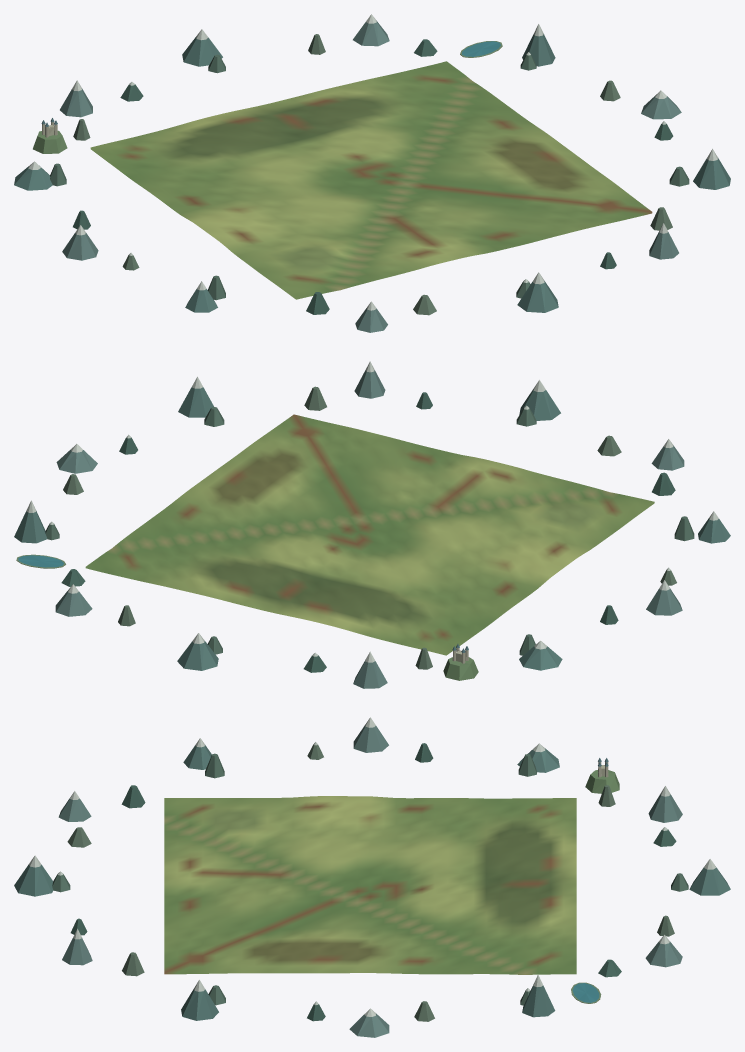
The model's file is overview.glb.
3 renders of one model, top to bottom at view 1: azimuth 30°, elevation 25°; view 2: azimuth 150°, elevation 25°; view 3: azimuth 270°, elevation 25°, orthographic.
Parts seen in each view (by area): view 1: Backdrop mountain 4, Backdrop mountain 2, Backdrop mountain 10, Backdrop mountain 7, Backdrop mountain 8, Backdrop mountain 1, Backdrop mountain 9, Backdrop mountain 12, Backdrop mountain 11, Backdrop mountain 3, Backdrop castle plateau, Backdrop mountain 5 (+1 smaller); view 2: Backdrop mountain 10, Backdrop mountain 4, Backdrop mountain 2, Backdrop mountain 8, Backdrop mountain 12, Backdrop mountain 1, Backdrop mountain 7, Backdrop mountain 11, Backdrop mountain 9, Backdrop castle plateau, Backdrop mountain 3, Backdrop mountain 6 (+1 smaller); view 3: Backdrop mountain 4, Backdrop mountain 2, Backdrop mountain 10, Backdrop mountain 12, Backdrop mountain 7, Backdrop mountain 9, Backdrop mountain 1, Backdrop mountain 11, Backdrop mountain 3, Backdrop castle plateau, Backdrop mountain 5, Backdrop mountain 8.
Boxes of the visible parts, x1,y1,x2,y2 form: Backdrop mountain 4: [517, 281, 558, 312]; Backdrop mountain 2: [693, 158, 730, 189]; Backdrop mountain 10: [182, 37, 222, 66]; Backdrop mountain 7: [62, 233, 98, 260]; Backdrop mountain 8: [14, 165, 52, 190]; Backdrop mountain 1: [641, 95, 681, 119]; Backdrop mountain 9: [60, 88, 92, 117]; Backdrop mountain 12: [522, 34, 555, 66]; Backdrop mountain 11: [353, 20, 389, 46]; Backdrop mountain 3: [649, 231, 678, 259]; Backdrop castle plateau: [33, 130, 67, 153]; Backdrop mountain 5: [355, 308, 387, 332]; Backdrop mountain 10: [177, 641, 218, 670]; Backdrop mountain 4: [519, 389, 560, 420]; Backdrop mountain 2: [178, 387, 213, 417]; Backdrop mountain 8: [519, 646, 562, 670]; Backdrop mountain 12: [14, 510, 47, 543]; Backdrop mountain 1: [56, 449, 97, 473]; Backdrop mountain 7: [646, 588, 682, 615]; Backdrop mountain 11: [55, 591, 92, 616]; Backdrop mountain 9: [353, 660, 387, 688]; Backdrop castle plateau: [443, 657, 478, 680]; Backdrop mountain 3: [354, 370, 385, 398]; Backdrop mountain 6: [698, 518, 730, 543]; Backdrop mountain 4: [14, 864, 53, 896]; Backdrop mountain 2: [181, 989, 218, 1020]; Backdrop mountain 10: [689, 867, 730, 895]; Backdrop mountain 12: [522, 984, 555, 1017]; Backdrop mountain 7: [353, 725, 388, 752]; Backdrop mountain 9: [648, 794, 682, 822]; Backdrop mountain 1: [349, 1013, 389, 1037]; Backdrop mountain 11: [645, 941, 682, 967]; Backdrop mountain 3: [62, 938, 92, 965]; Backdrop castle plateau: [585, 770, 619, 793]; Backdrop mountain 5: [58, 797, 91, 821]; Backdrop mountain 8: [517, 748, 559, 772].
Bounding box in the file's own units: 827 × 46.85 × 835.
